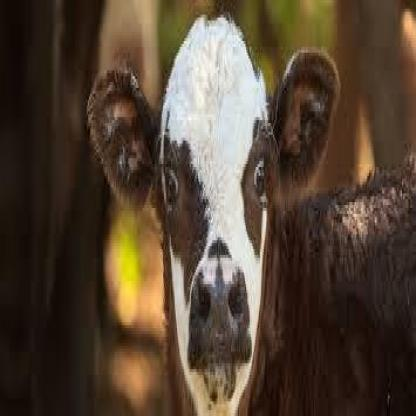cow: (86, 17, 416, 416)
